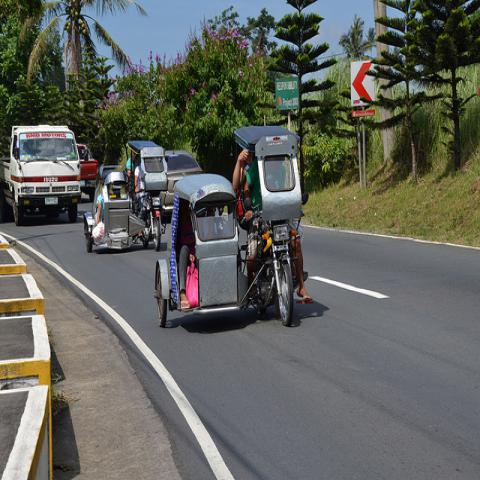car: (160, 150, 205, 216), (99, 165, 128, 179)
motorcycle: (246, 219, 294, 323), (141, 197, 162, 250)
truck: (1, 122, 85, 224), (76, 143, 99, 203)
